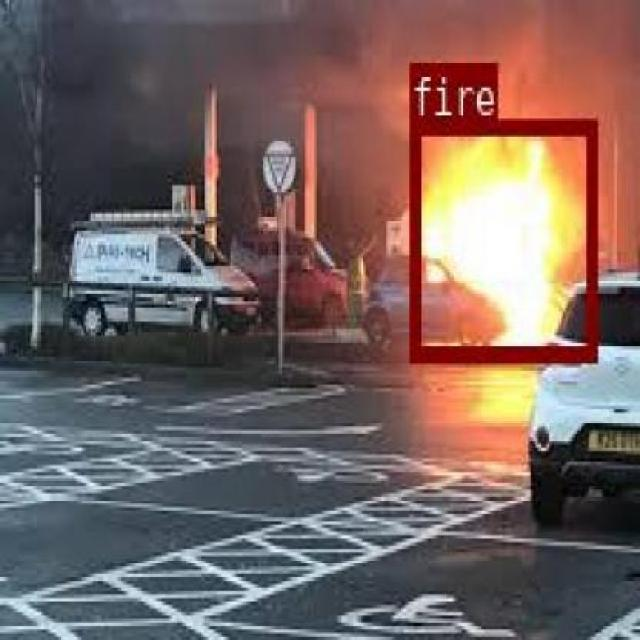Fire: (408, 116, 596, 357)
